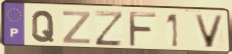1: (165, 13, 180, 48)
F: (127, 11, 159, 49)
Q: (30, 9, 56, 44)
V: (193, 13, 227, 50)
Z: (93, 10, 125, 48), (61, 10, 92, 46)
